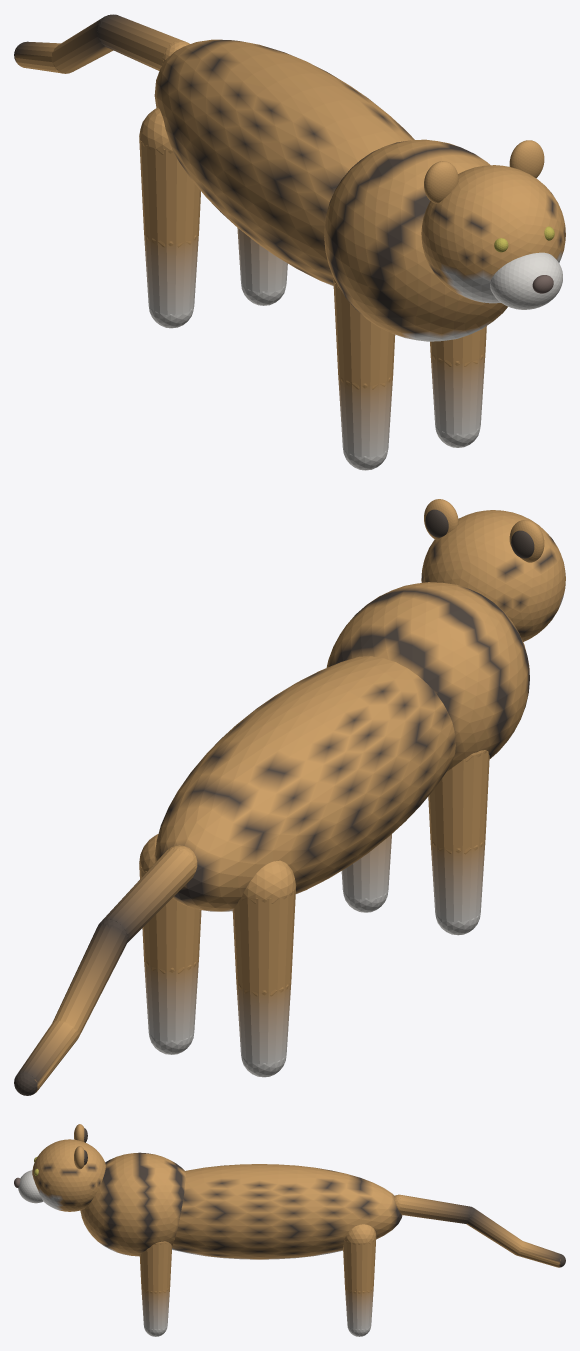
File: harimau-sumatra.glb
3 views of the same model, one above another, from view 1: azimuth 30°, elevation 25°; view 2: azimuth 150°, elevation 25°; view 3: azimuth 270°, elevation 25° (orthographic). The views are drawn at different scales.
Visible parts, largest first — view 1: harimau-sumatra; view 2: harimau-sumatra; view 3: harimau-sumatra.
Part boxes in pixels (left/top/right/bottom): harimau-sumatra: left=14, top=14, right=565, bottom=470; harimau-sumatra: left=14, top=499, right=565, bottom=1095; harimau-sumatra: left=14, top=1124, right=565, bottom=1336.
Size of the model in its own units: 0.52 by 1.04 by 2.76.
